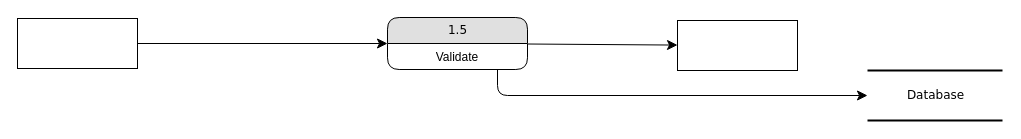
The diagram is 1021 pixels wide and 139 high, and some of its shapes have lost their labels. The box of each missing label's shape, as (x1, y1, x2, y2) in pixels:
Login Credentials: (16, 18, 138, 68)
Login Successful: (676, 20, 798, 70)
